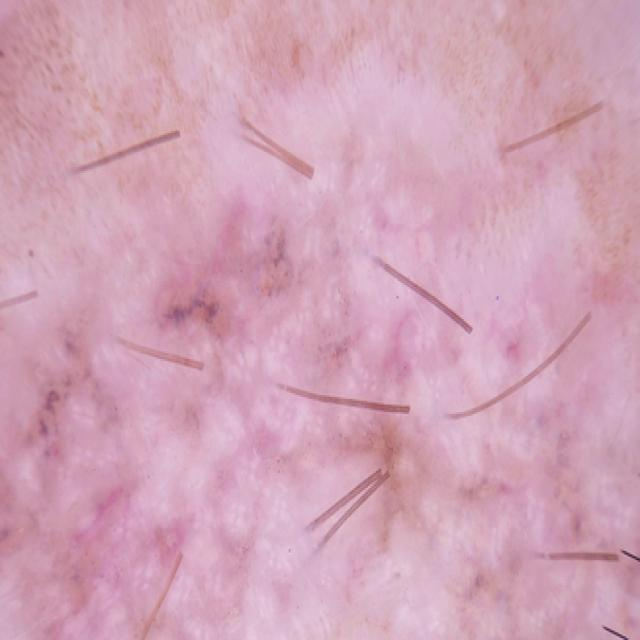Carcinoma: (0, 342, 256, 640), (156, 174, 417, 337)
